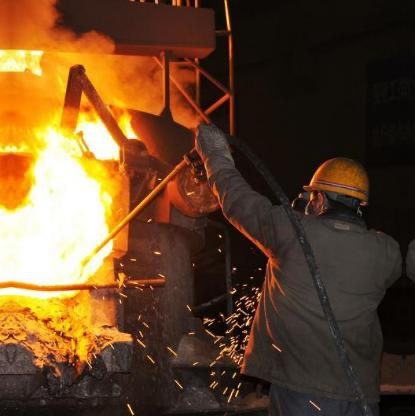Safety Helmet: (300, 145, 382, 234)
